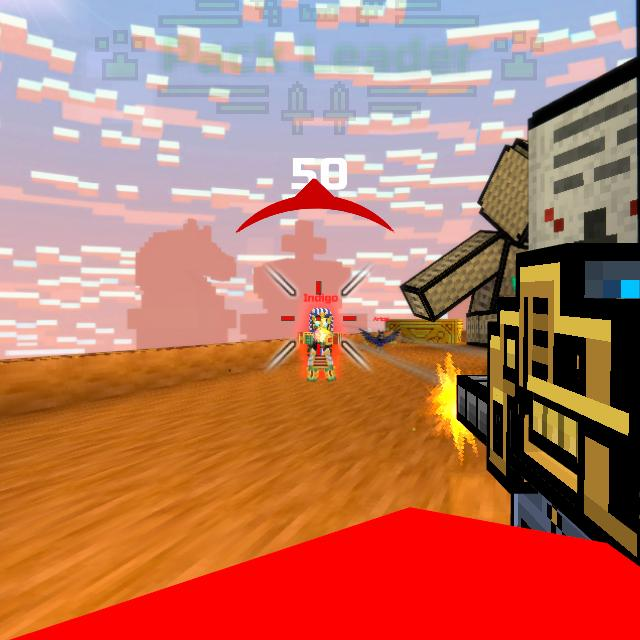Enemy: (298, 307, 342, 383)
